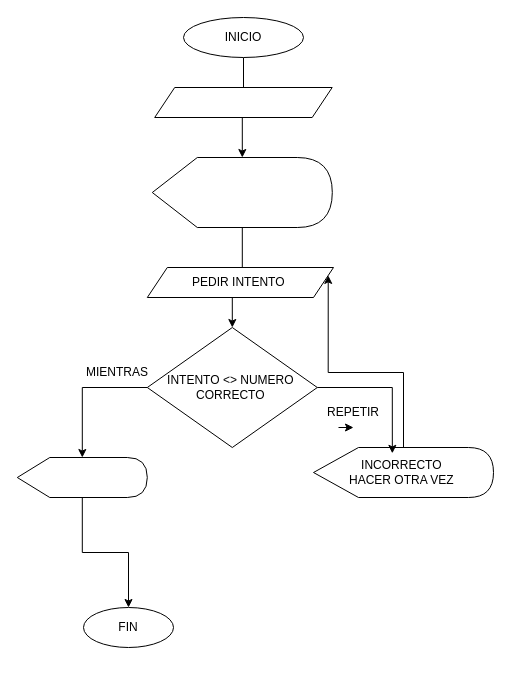
This 512x673 diagram has some shape labels left out. The shapes that lost their labels are listed below. From the top down, each one's centre as x and y in pixels, then its label:
At (x=243, y=102): "NUMERO SECRETO = 7".
At (x=241, y=192): "ADIVINA EL NUMERO SECRETO DEL 1 AL 10".
At (x=81, y=477): "CORRECTO".
